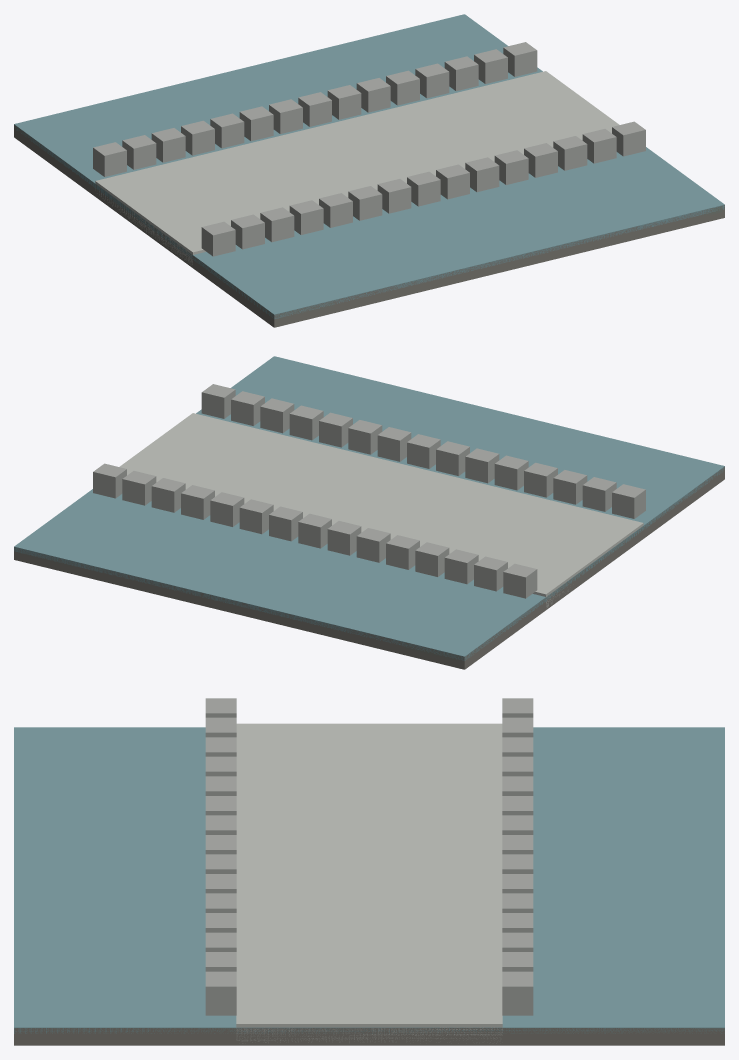
File: bridge_stone_ew.glb
The picture shows the model from 3 angles, top to bottom: view 1: azimuth 30°, elevation 25°; view 2: azimuth 150°, elevation 25°; view 3: azimuth 270°, elevation 25°; orthographic projection. The views are drawn at different scales.
Parts seen in each view (by area): view 1: road_material_01, road_material_03, road_material_04, road_material_00; view 2: road_material_01, road_material_03, road_material_04, road_material_00; view 3: road_material_01, road_material_03, road_material_04, road_material_00.
Part boxes in pixels (bbox=[...]): road_material_01: bbox=[14, 14, 724, 319]; road_material_03: bbox=[95, 71, 619, 265]; road_material_04: bbox=[93, 42, 645, 256]; road_material_00: bbox=[14, 125, 724, 327]; road_material_01: bbox=[14, 356, 724, 660]; road_material_03: bbox=[119, 413, 643, 607]; road_material_04: bbox=[93, 384, 645, 598]; road_material_00: bbox=[14, 467, 724, 669]; road_material_01: bbox=[14, 727, 724, 1033]; road_material_03: bbox=[236, 723, 502, 1043]; road_material_04: bbox=[205, 698, 533, 1015]; road_material_00: bbox=[14, 1028, 724, 1045].
Size of the model in its own units: 8 by 0.66 by 8.
